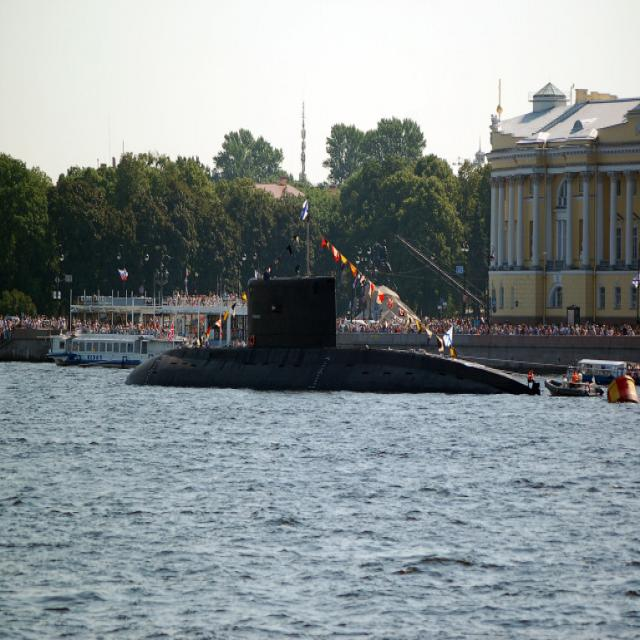submarine: (118, 275, 541, 396)
